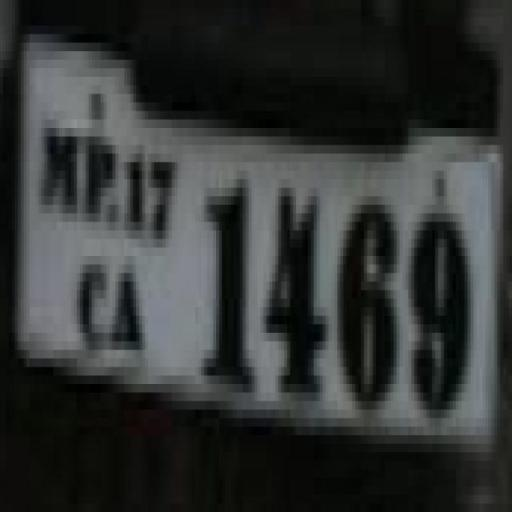number plate: (3, 51, 485, 478)
